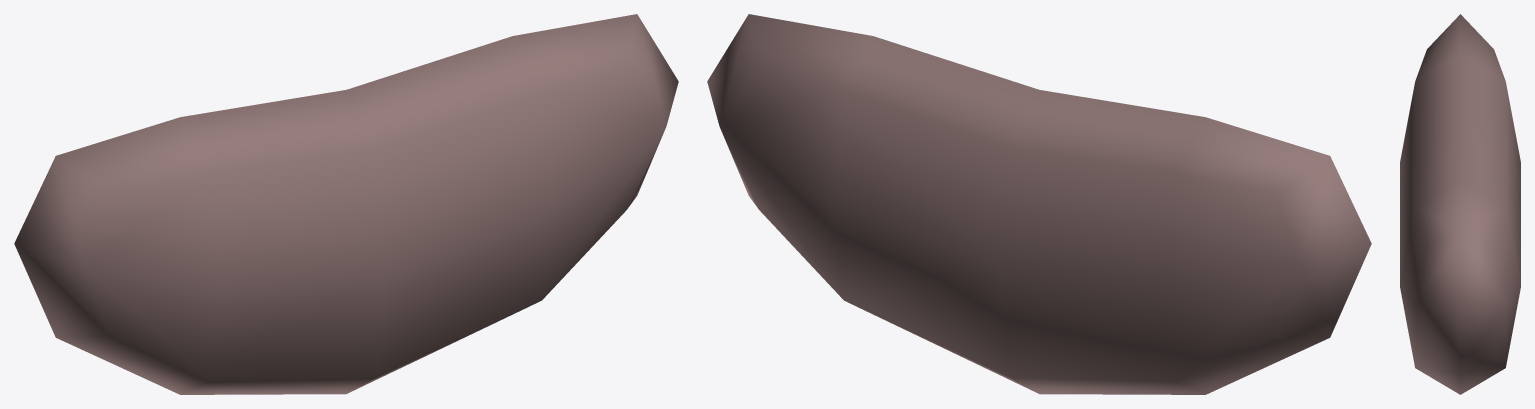
File: Face_Mouth_Open.fbx
3 renders of one model, left to right at view 1: azimuth 30°, elevation 25°; view 2: azimuth 150°, elevation 25°; view 3: azimuth 270°, elevation 25°, orthographic. The views are drawn at different scales.
Visible parts, largest first — view 1: Cube; view 2: Cube; view 3: Cube.
Part boxes in pixels (box(x1,y1,x2,y2)): Cube: box(14, 14, 678, 394); Cube: box(707, 14, 1371, 394); Cube: box(1400, 14, 1520, 394).
Size of the model in its own units: 8.57 by 3.92 by 1.75.
1 material, 1 textured.
